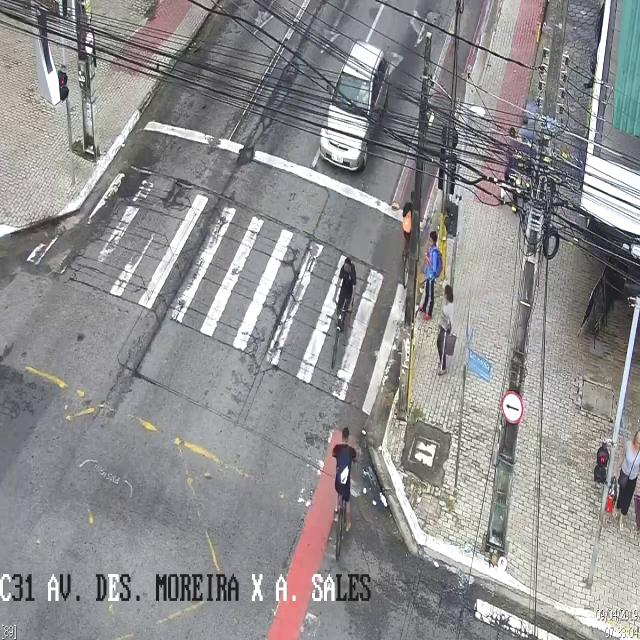Car: (320, 42, 390, 170)
